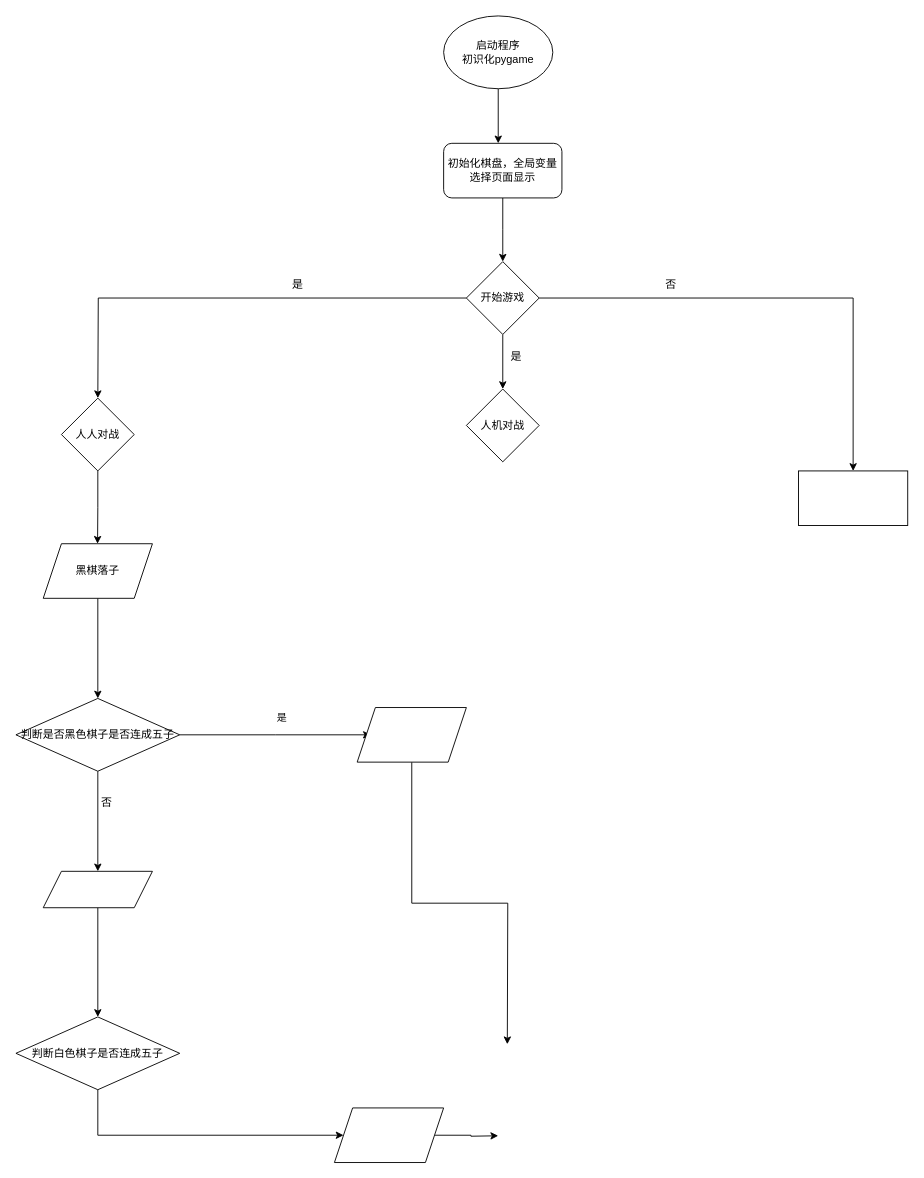
Some shapes in this 924 by 1178 pixel diagram are drawn without their labels. Here are the shapes that lost their labels. From the top down, the centre of each, then its label:
At (853,498): "退出游戏".
At (411,734): "弹出黑棋子胜利".
At (97,889): "白棋落子".
At (389,1135): "弹出白字胜利".
